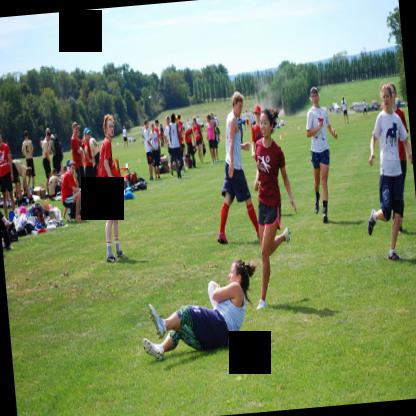backpack: (50, 137, 64, 162), (123, 187, 135, 200)
